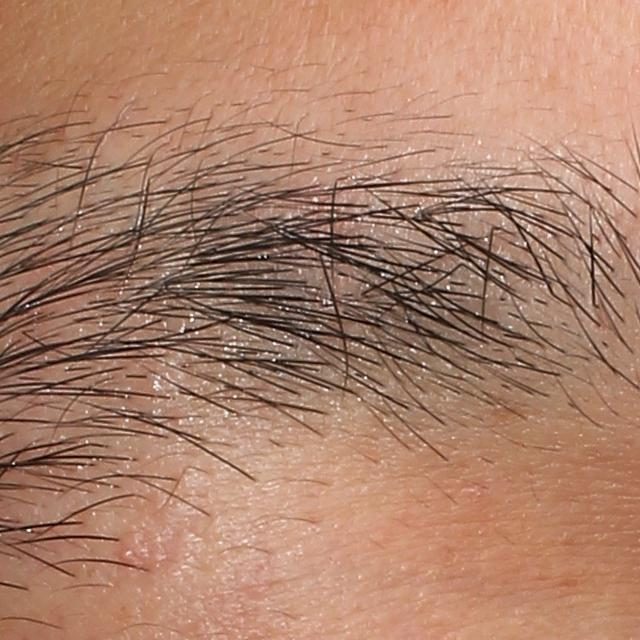papule: (116, 541, 140, 566)
